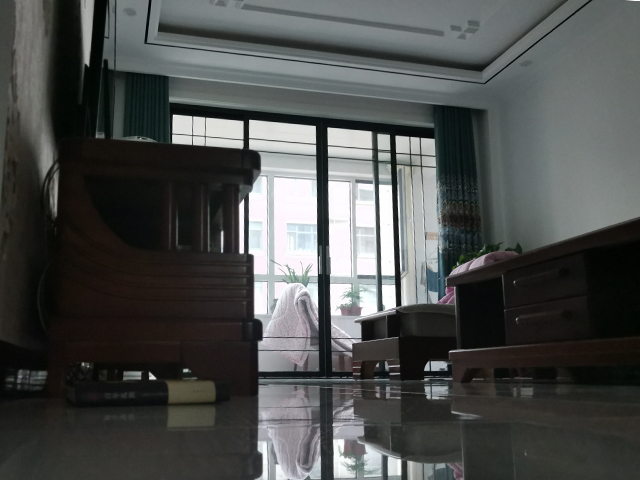book: (62, 378, 232, 408)
cabinet: (43, 136, 265, 400)
curtain: (431, 108, 483, 262)
sofa: (350, 303, 455, 384)
table: (444, 218, 640, 386)
